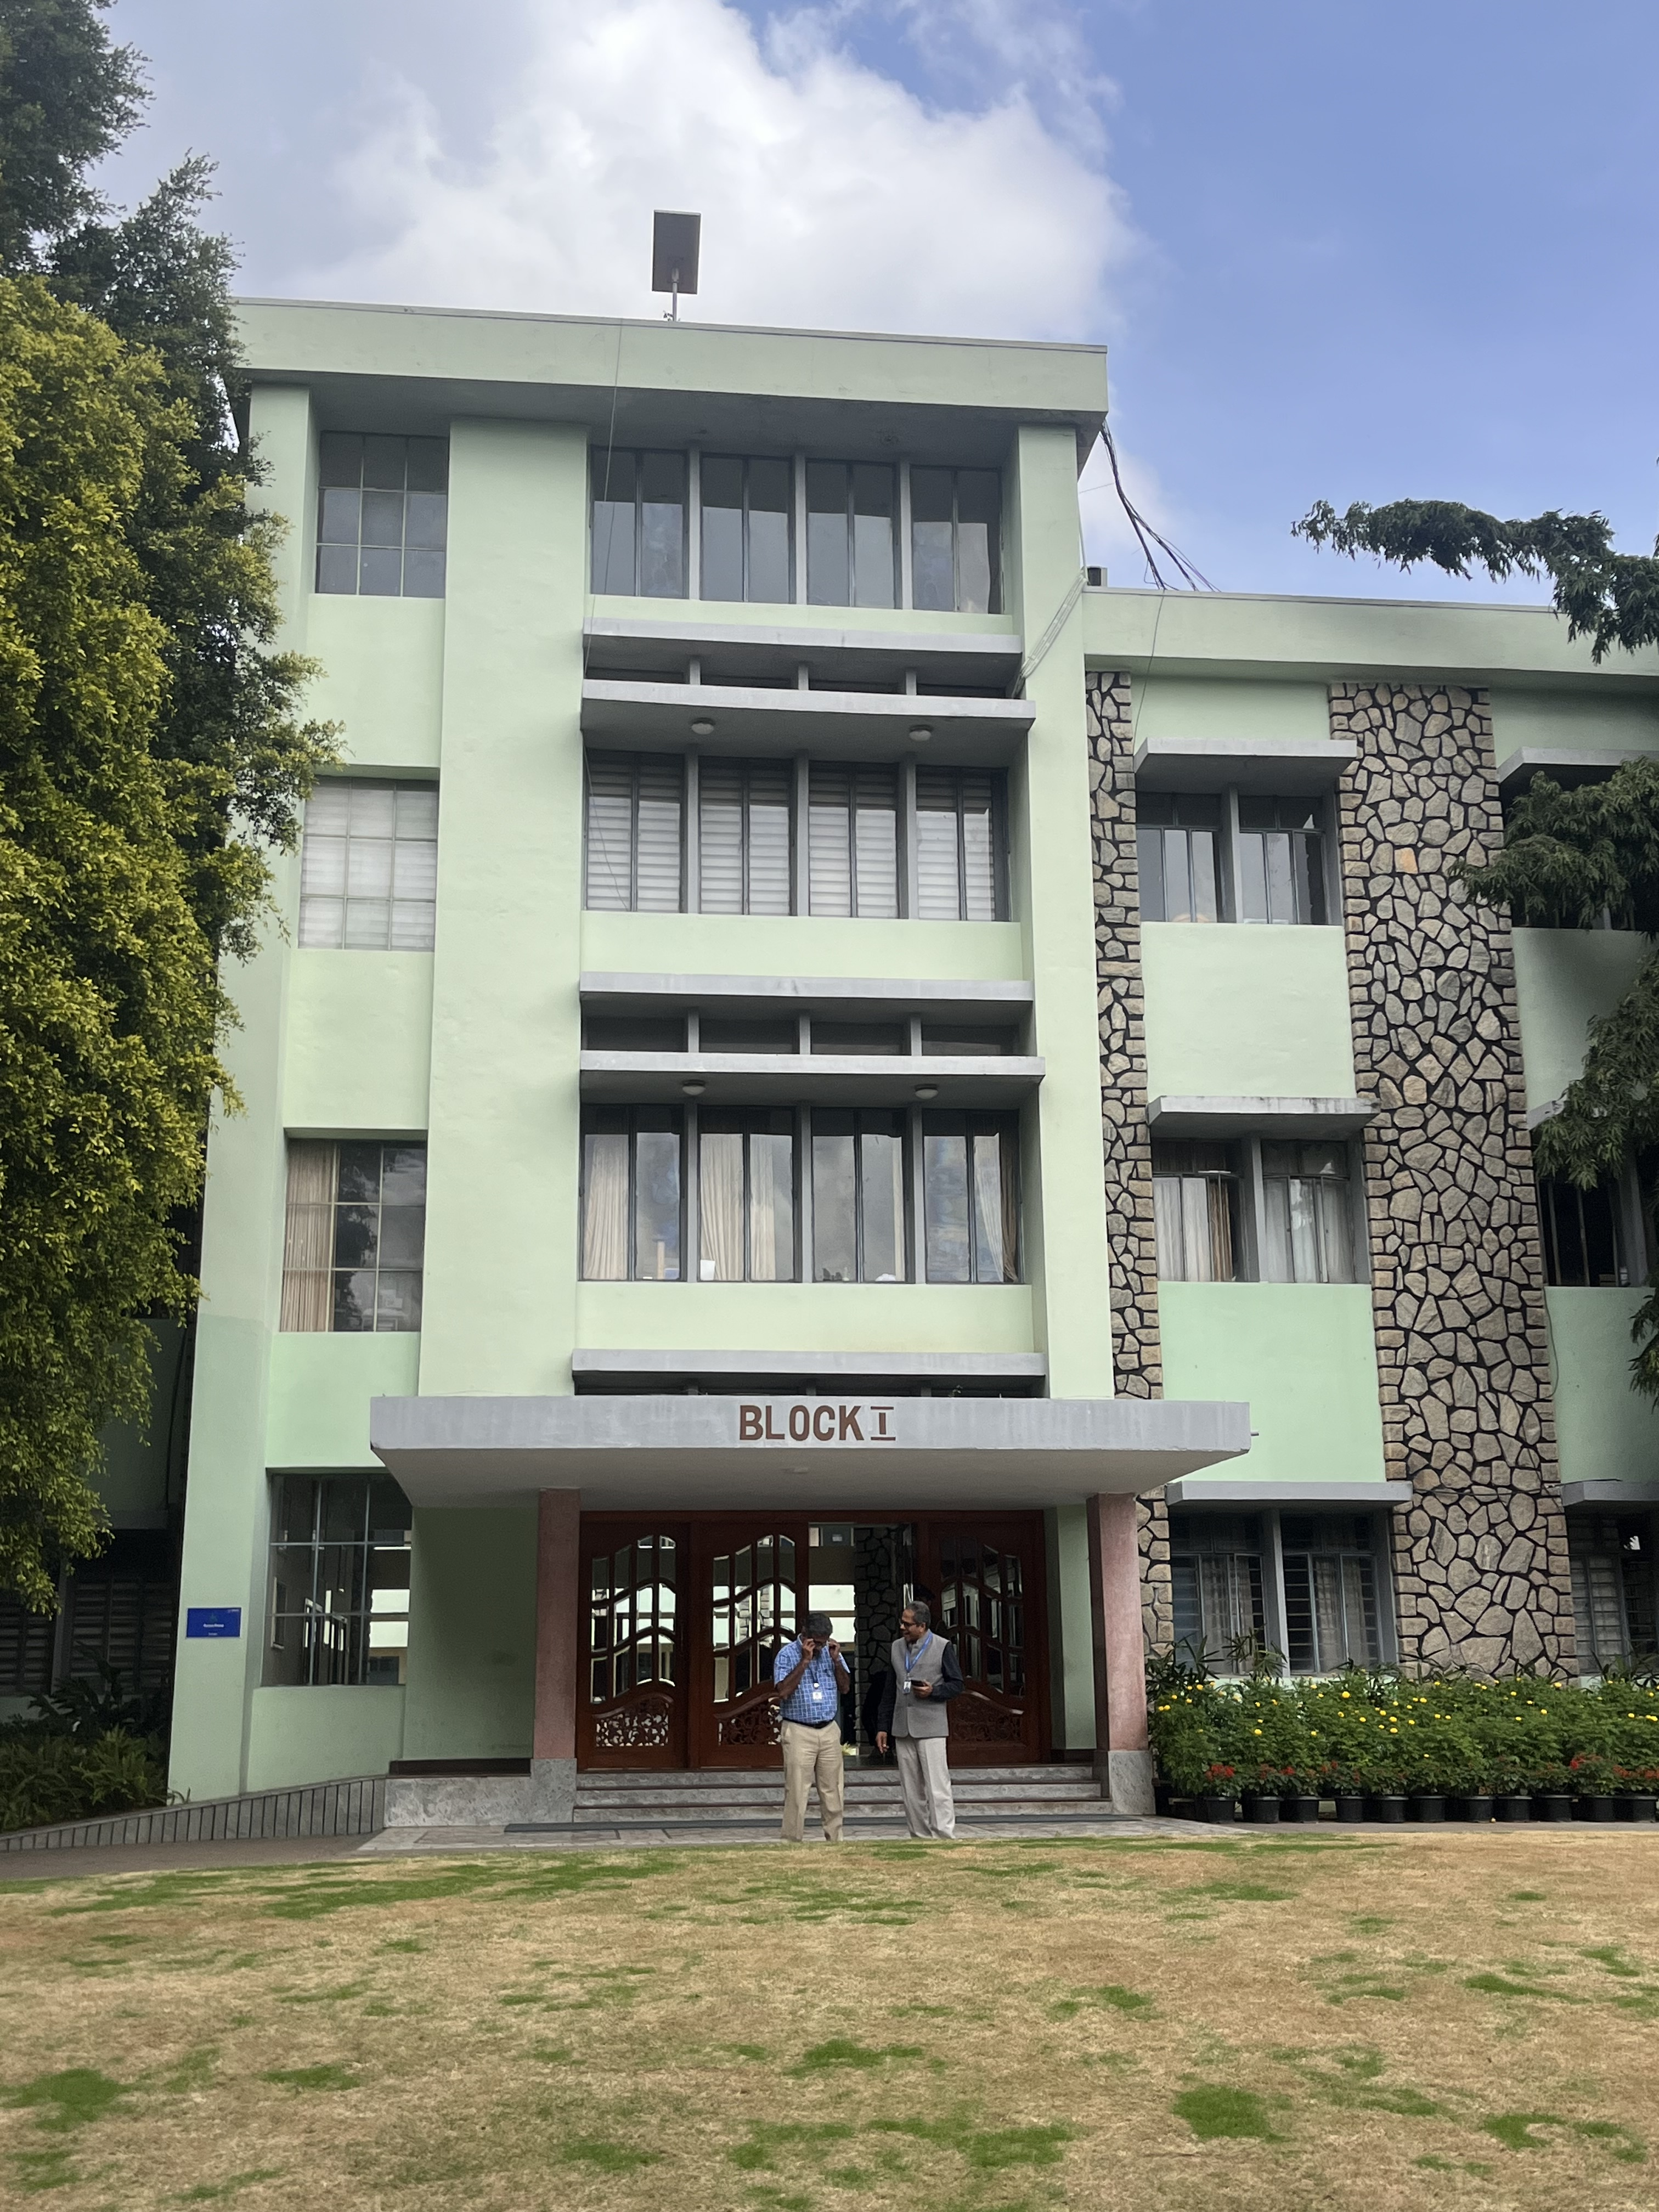Block 1: (230, 287, 1605, 1796)
